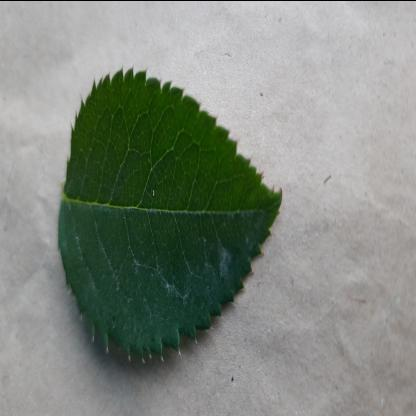normal: (58, 64, 282, 370)
